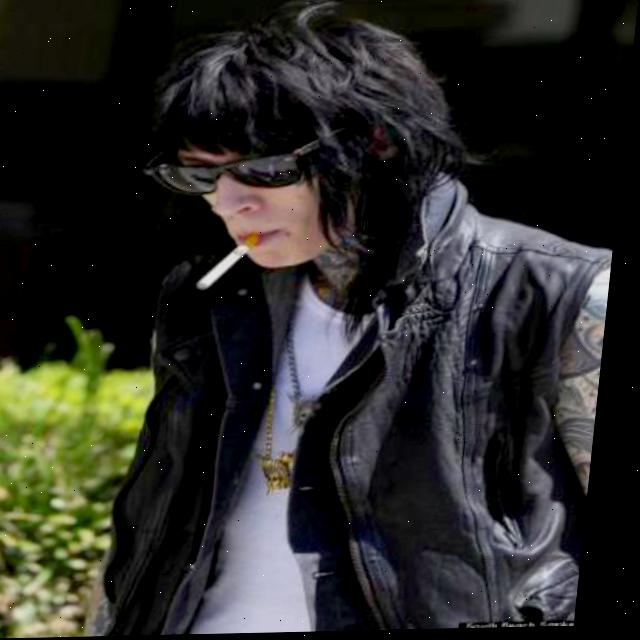cigarette: (197, 233, 268, 294)
